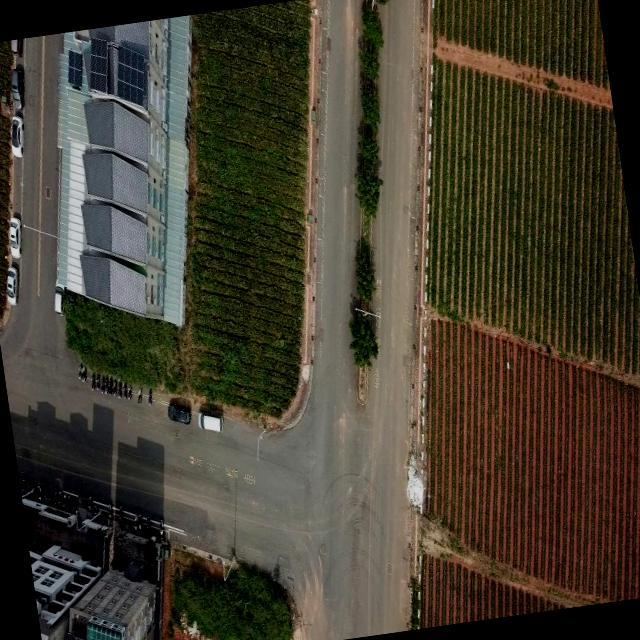bike: (88, 372, 98, 393), (35, 481, 44, 504), (146, 388, 156, 408), (105, 502, 115, 522), (95, 372, 104, 392), (52, 490, 62, 508), (157, 516, 166, 536), (81, 365, 90, 384), (136, 386, 145, 404), (137, 514, 145, 534), (117, 381, 125, 400), (108, 376, 116, 395), (100, 375, 108, 394), (144, 516, 152, 534), (132, 515, 140, 533), (118, 504, 126, 522), (122, 383, 130, 400), (112, 379, 120, 396), (104, 374, 110, 396), (126, 384, 134, 400), (87, 494, 95, 510), (78, 364, 86, 379)
car: (196, 402, 227, 437), (8, 65, 30, 112), (165, 394, 193, 427), (6, 214, 26, 260), (8, 113, 28, 159), (2, 264, 22, 306)
